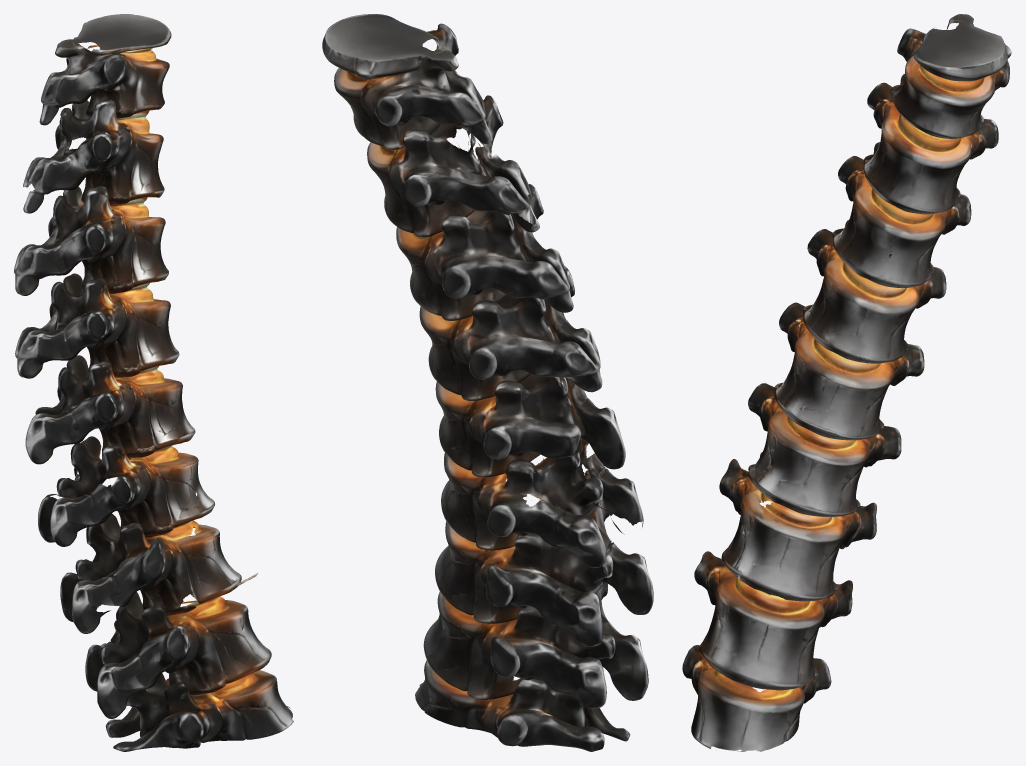
Rendered from spine-desktop.glb.
3 views of the same model, side by side, from view 1: azimuth 30°, elevation 25°; view 2: azimuth 150°, elevation 25°; view 3: azimuth 270°, elevation 25° (orthographic). The views are drawn at different scales.
Parts seen in each view (by area): view 1: tripo_node_b2a1ff4f-8972-4df4-b4bd-6063b4841254; view 2: tripo_node_b2a1ff4f-8972-4df4-b4bd-6063b4841254; view 3: tripo_node_b2a1ff4f-8972-4df4-b4bd-6063b4841254.
Boxes of the visible parts, x1,y1,x2,y2 form: tripo_node_b2a1ff4f-8972-4df4-b4bd-6063b4841254: (14, 14, 293, 751); tripo_node_b2a1ff4f-8972-4df4-b4bd-6063b4841254: (322, 14, 653, 751); tripo_node_b2a1ff4f-8972-4df4-b4bd-6063b4841254: (682, 14, 1011, 751).
Size of the model in its own units: 0.3555 by 0.9823 by 0.4339.
Materials: 1 (1 with a texture image).
